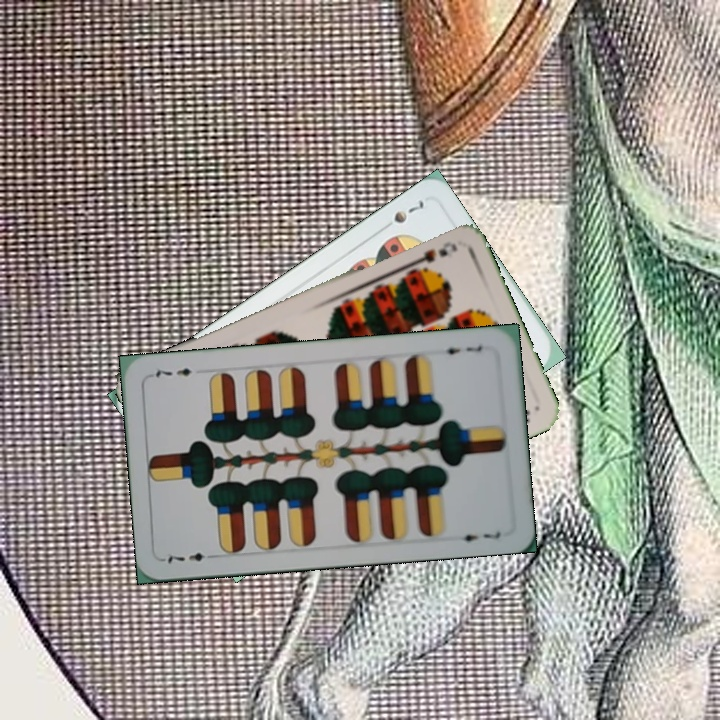E7: (161, 548, 219, 567), (435, 341, 485, 357)
S7: (376, 196, 427, 234)
S9: (404, 244, 450, 274)
